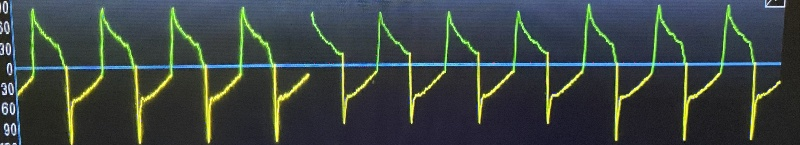peepi: (20, 2, 780, 137)
